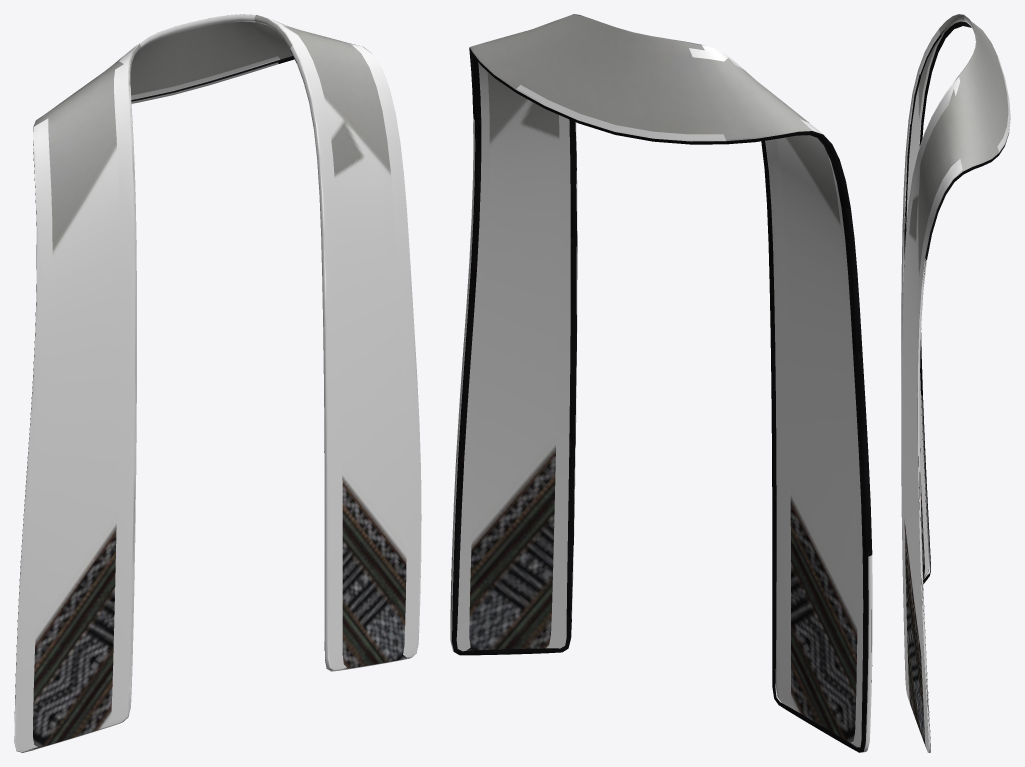
The model's file is sash_one_top_one_down.glb.
The picture shows the model from 3 angles, left to right: view 1: azimuth 30°, elevation 25°; view 2: azimuth 150°, elevation 25°; view 3: azimuth 270°, elevation 25°; orthographic projection. The views are drawn at different scales.
Parts seen in each view (by area): view 1: all; view 2: all; view 3: all.
Part boxes in pixels (box(x1,y1,x2,y2)): all: box(14, 14, 421, 752); all: box(450, 14, 872, 752); all: box(901, 14, 1010, 752).
Bounding box in the file's own units: 1.4 × 2.2 × 0.3488.
1 material, 1 textured.
